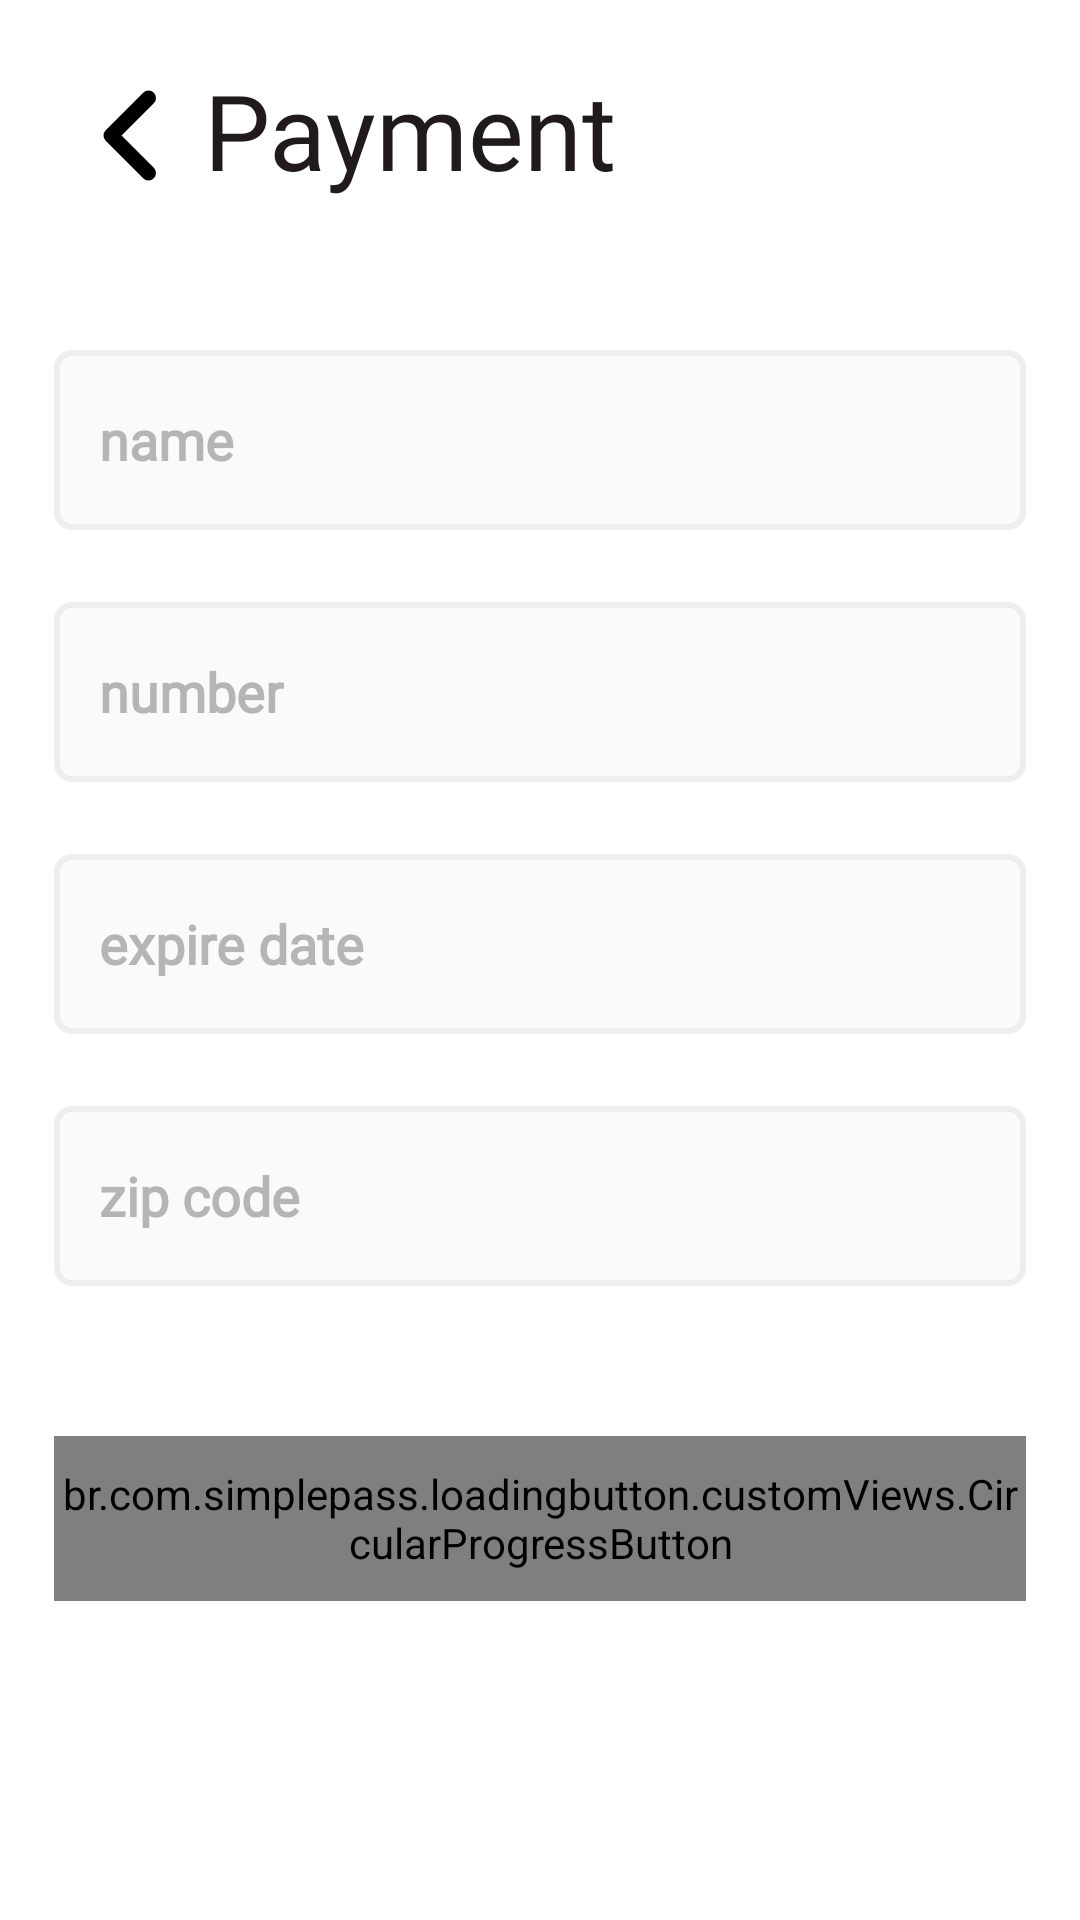

Named icons in this screenshot (1080w x 1920h) and their bounding boxes, (x1, y1, x2, y2):
return: (103, 90, 156, 181)
